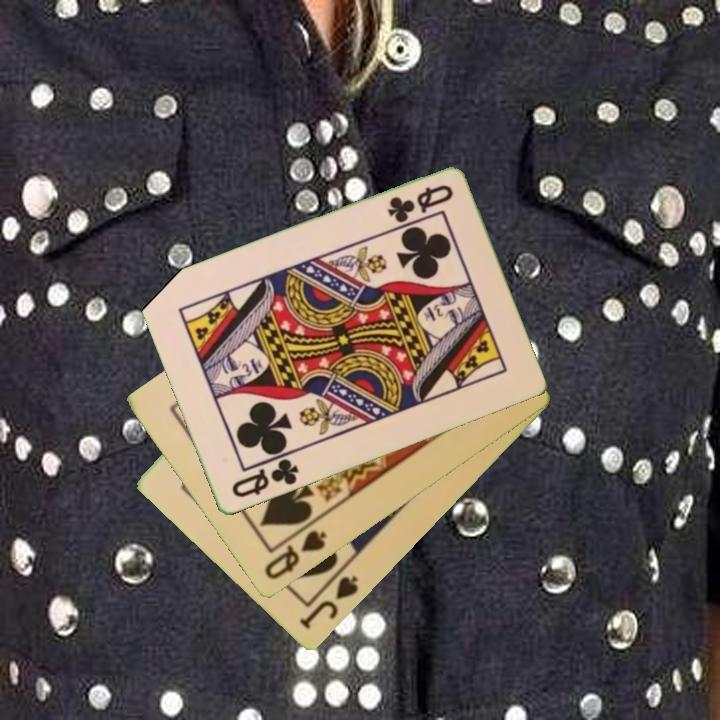Js: (295, 572, 362, 633)
Qc: (227, 455, 302, 501), (383, 181, 456, 226)
Qs: (261, 527, 330, 583)
